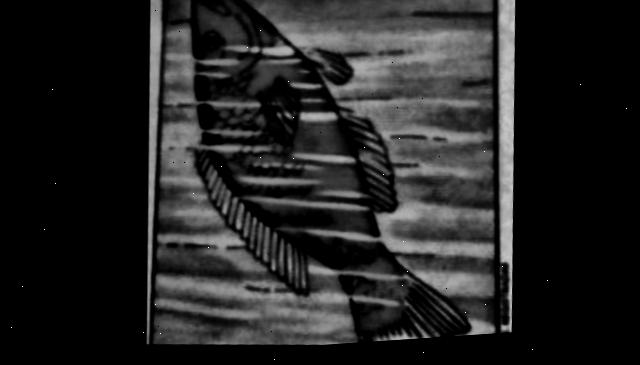El Pescado: (146, 0, 496, 349)
